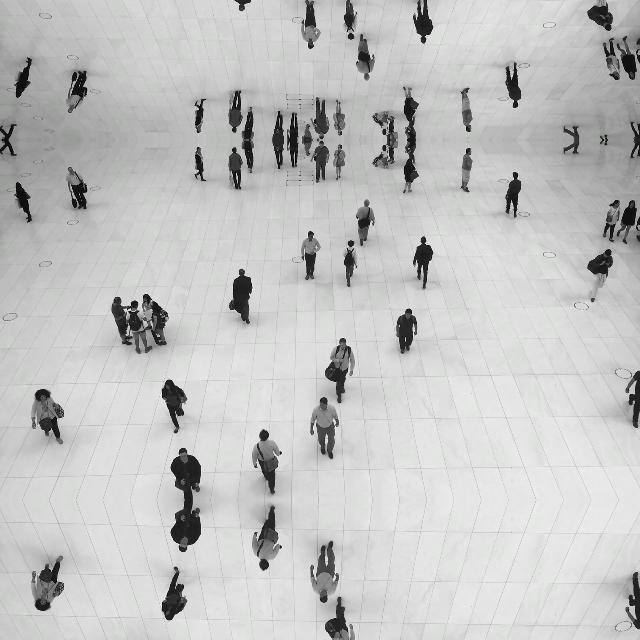person: (324, 337, 356, 403), (252, 429, 282, 495), (252, 505, 282, 571), (31, 389, 65, 445), (31, 555, 65, 611), (310, 397, 340, 459), (310, 541, 340, 603), (170, 448, 202, 500), (170, 500, 202, 552), (160, 378, 188, 434), (160, 566, 188, 622), (125, 300, 153, 354), (587, 249, 613, 303), (229, 268, 253, 324), (324, 597, 355, 640), (300, 231, 322, 281), (111, 296, 133, 346), (414, 236, 434, 290), (300, 0, 321, 49), (396, 308, 418, 354), (616, 200, 638, 244), (65, 70, 87, 114), (616, 36, 638, 80), (356, 199, 376, 247), (356, 33, 376, 81), (65, 167, 87, 210), (624, 369, 640, 428), (624, 572, 640, 630), (413, 0, 434, 44), (150, 302, 170, 346), (310, 141, 330, 183), (310, 97, 330, 139), (504, 172, 522, 218), (504, 62, 522, 108), (587, 0, 613, 31), (342, 240, 358, 288), (602, 200, 620, 242), (602, 38, 620, 80), (14, 182, 32, 222), (14, 58, 32, 98), (228, 146, 244, 190), (228, 90, 244, 134), (140, 294, 158, 332), (342, 0, 357, 40), (403, 158, 419, 194), (403, 86, 419, 122), (461, 148, 473, 192), (461, 88, 473, 132), (333, 144, 347, 180), (333, 100, 347, 136), (194, 146, 206, 182), (194, 98, 206, 134), (242, 106, 254, 140), (242, 140, 254, 173), (272, 140, 284, 170), (272, 110, 284, 140), (287, 140, 299, 168), (375, 145, 389, 169), (287, 112, 299, 140), (375, 111, 389, 135), (386, 140, 398, 164), (405, 140, 417, 164), (386, 116, 398, 140), (405, 116, 417, 140), (229, 0, 253, 12), (0, 140, 16, 156), (0, 124, 16, 140), (562, 140, 580, 154), (562, 126, 580, 140), (302, 140, 314, 156), (302, 124, 314, 140), (630, 140, 640, 158), (630, 122, 640, 140), (600, 140, 608, 146), (600, 134, 608, 140)
